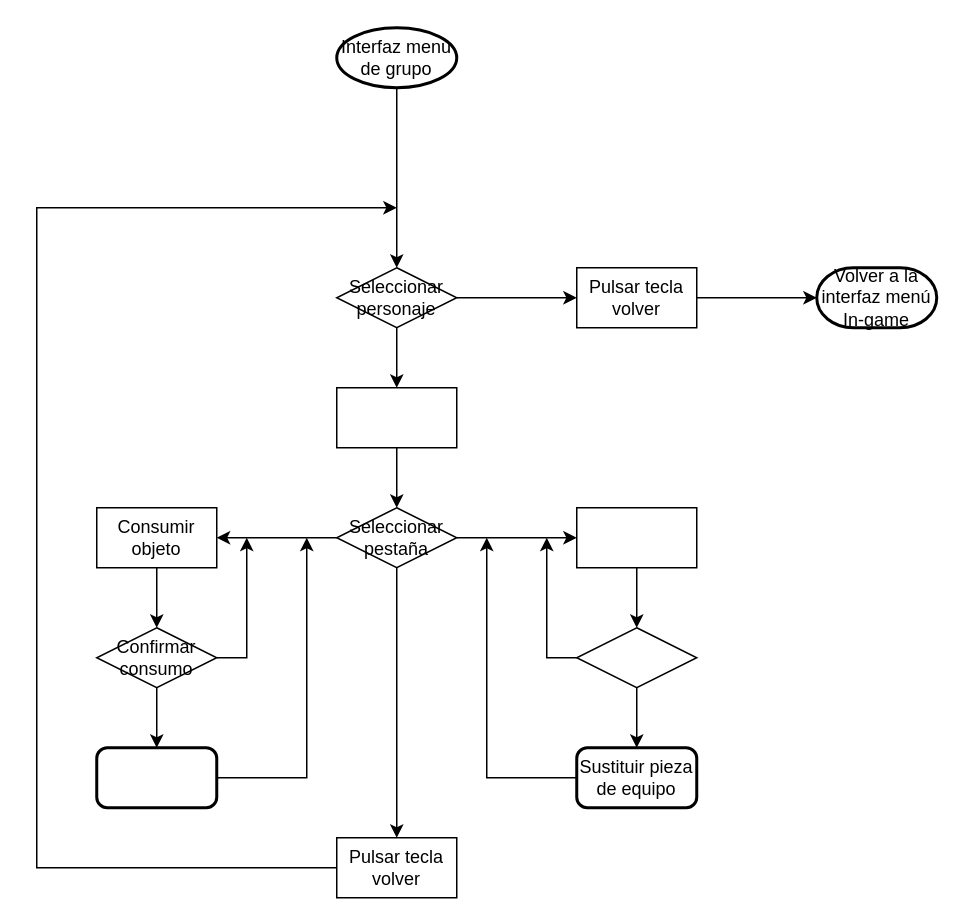
Some shapes in this 965 by 924 pixel diagram are drawn without their labels. The centre of each missing label's shape, as x and y in pixels:
Aplicar efectos del consumible: (x=156, y=777)
Confirmar equipado: (x=636, y=657)
Equipar objeto: (x=636, y=537)
Personaje seleccionado: (x=396, y=417)
